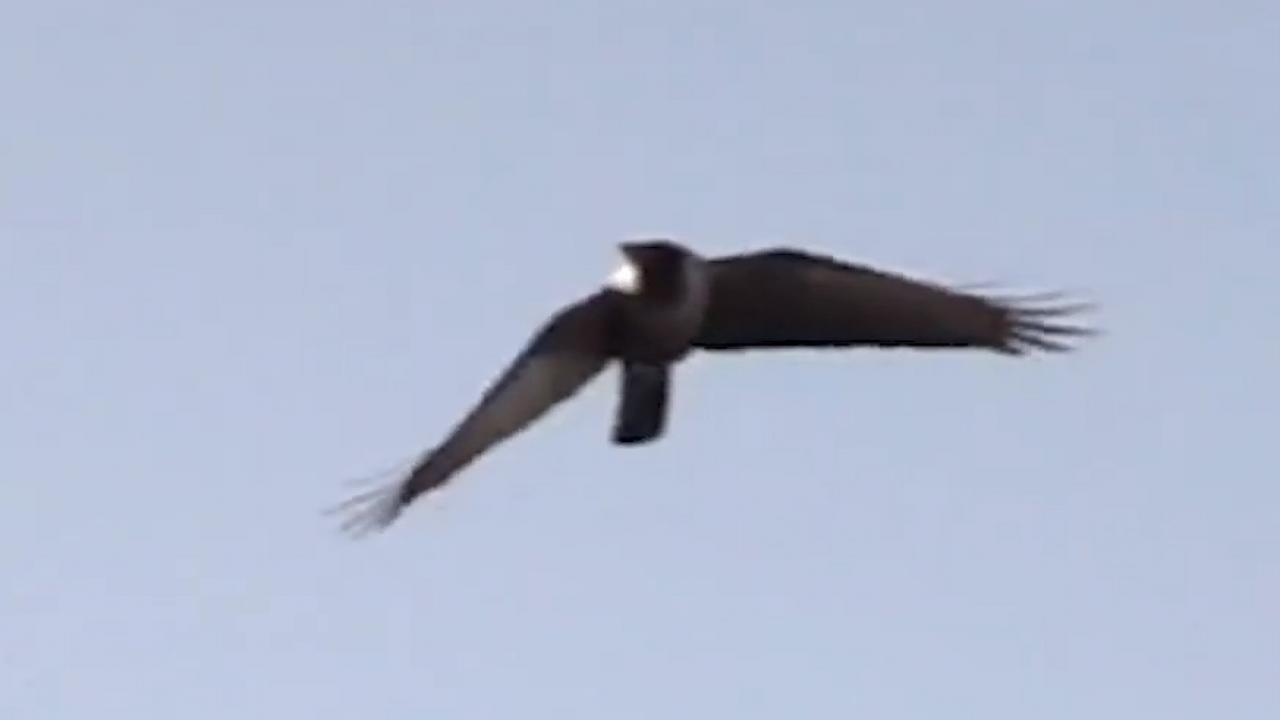Bird: (319, 230, 1116, 549)
